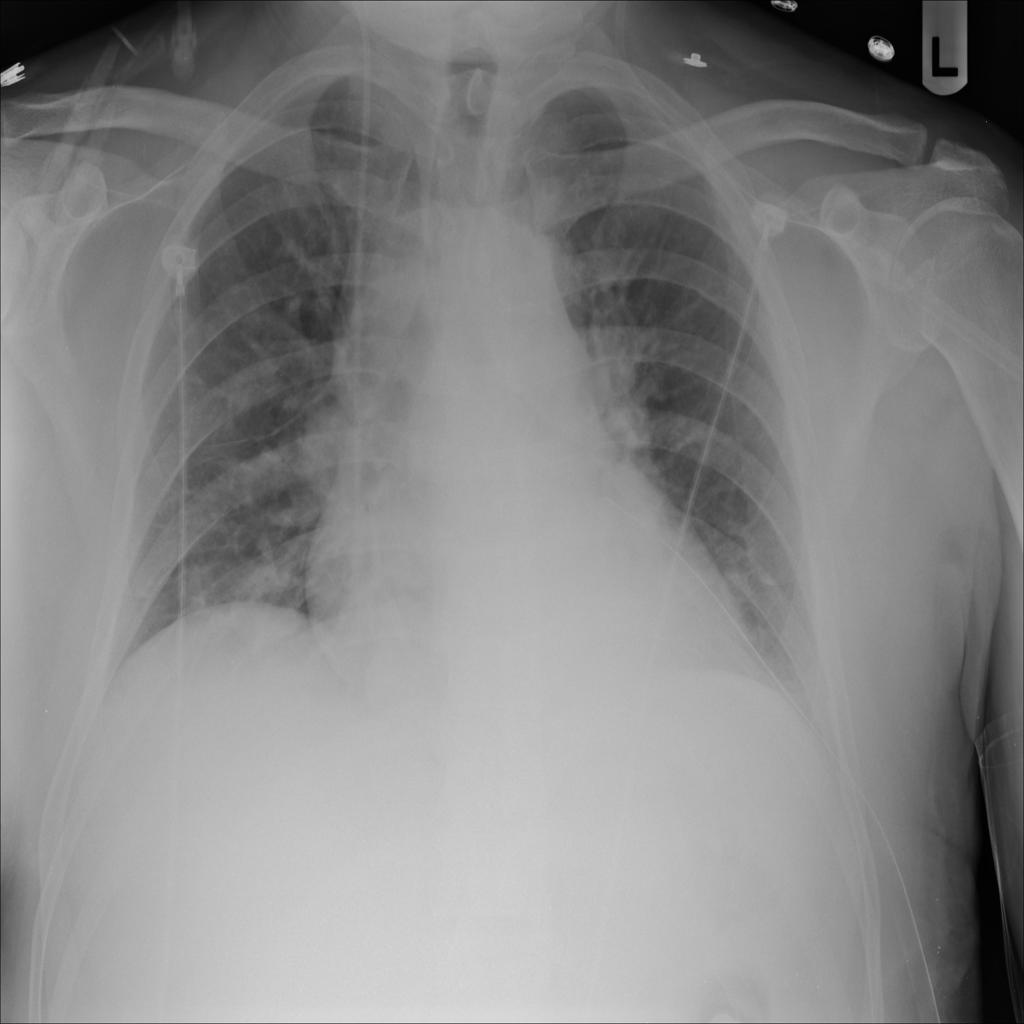nodule: (210, 535, 315, 650), (160, 549, 229, 626)
